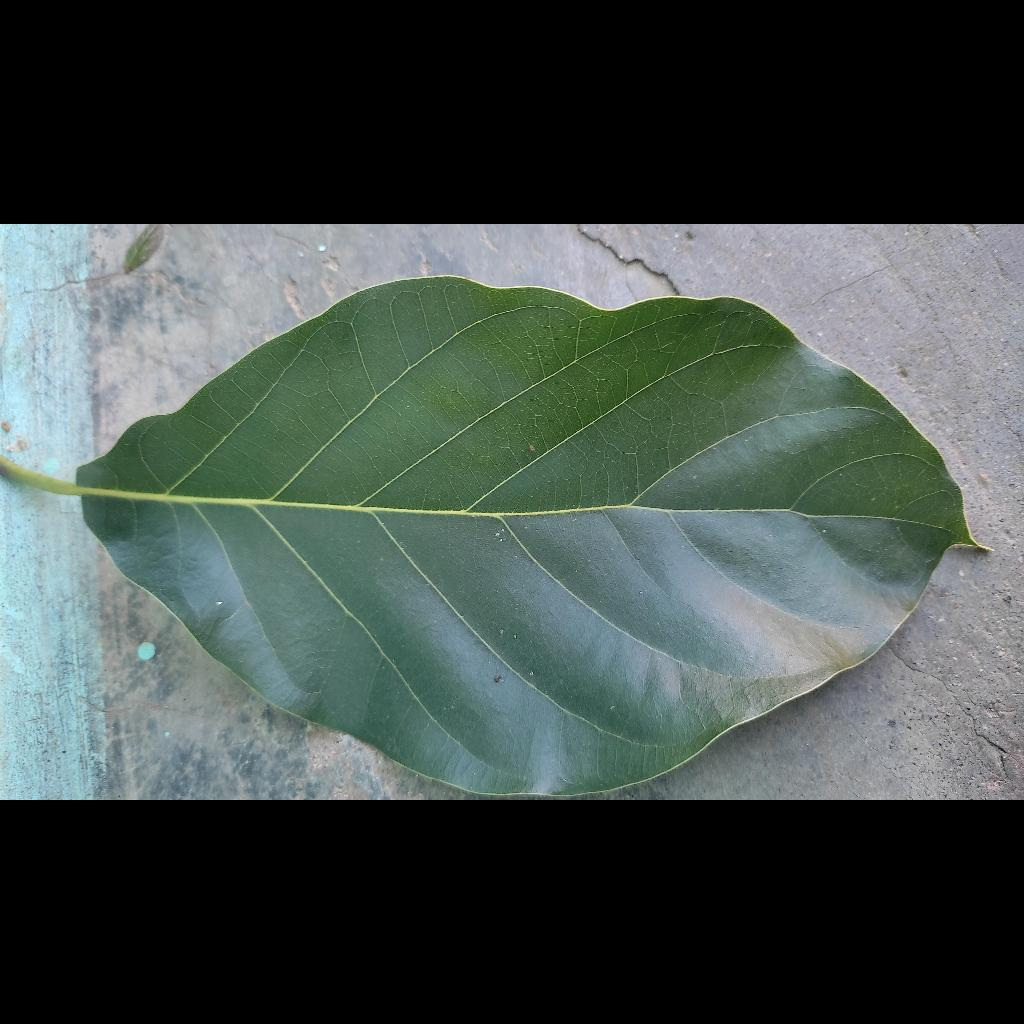hoja_sana: (0, 276, 978, 795)
